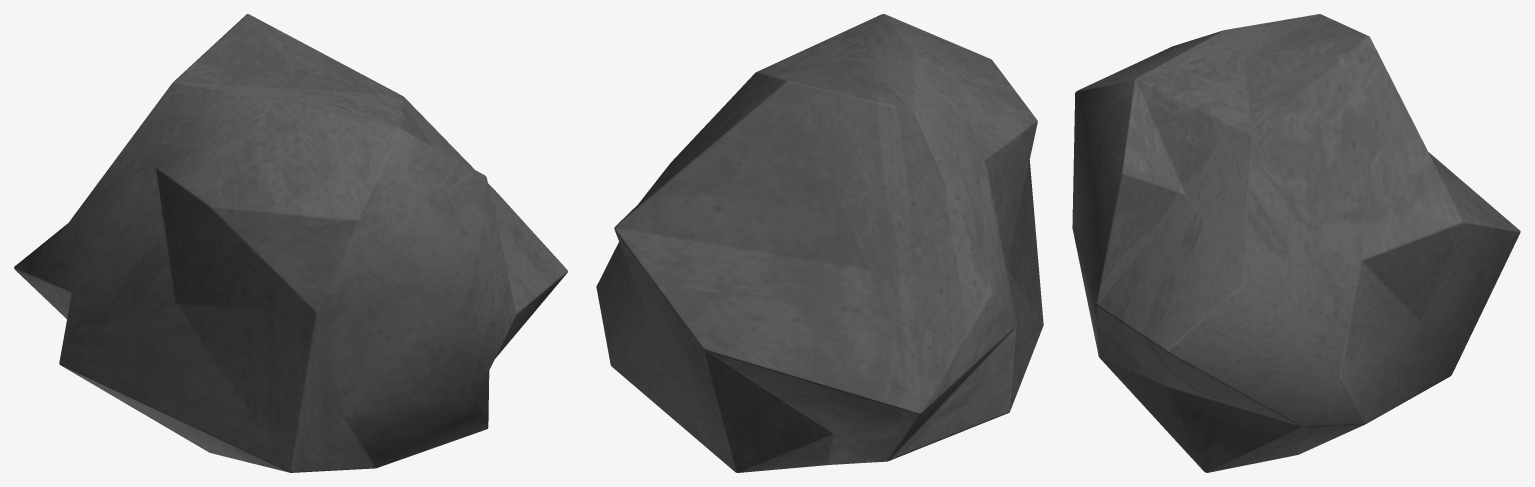
File: rock-scatter.glb
3 renders of one model, left to right at view 1: azimuth 30°, elevation 25°; view 2: azimuth 150°, elevation 25°; view 3: azimuth 270°, elevation 25°, orthographic. The views are drawn at different scales.
Visible parts, largest first — view 1: Icosphere; view 2: Icosphere; view 3: Icosphere.
Boxes of the visible parts, box(x1,y1,x2,y2) form: Icosphere: box(14, 14, 567, 472); Icosphere: box(596, 14, 1043, 472); Icosphere: box(1072, 14, 1520, 472).
Size of the model in its own units: 2.78 by 2.56 by 2.75.
1 material, 1 textured.
